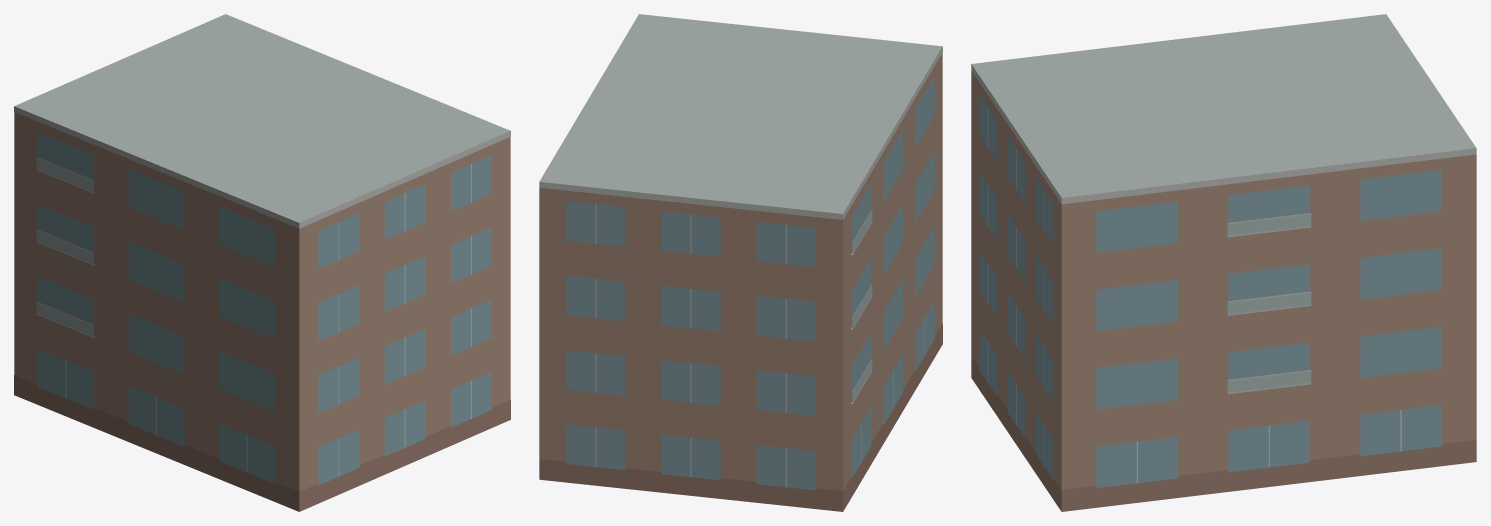
Rendered from residential-36a632a4-566d-467c-9dfb-36ed04e1bf3c.glb.
The picture shows the model from 3 angles, left to right: view 1: azimuth 30°, elevation 25°; view 2: azimuth 150°, elevation 25°; view 3: azimuth 270°, elevation 25°; orthographic projection. The views are drawn at different scales.
Parts seen in each view (by area): view 1: residential-36a632a4-566d-467c-9dfb-36ed04e1bf3c.tmp; view 2: residential-36a632a4-566d-467c-9dfb-36ed04e1bf3c.tmp; view 3: residential-36a632a4-566d-467c-9dfb-36ed04e1bf3c.tmp.
Boxes of the visible parts, x1,y1,x2,y2 form: residential-36a632a4-566d-467c-9dfb-36ed04e1bf3c.tmp: (14,14,510,511); residential-36a632a4-566d-467c-9dfb-36ed04e1bf3c.tmp: (539,14,942,511); residential-36a632a4-566d-467c-9dfb-36ed04e1bf3c.tmp: (971,14,1476,511).
Size of the model in its own units: 15.36 by 12.2 by 17.81.
